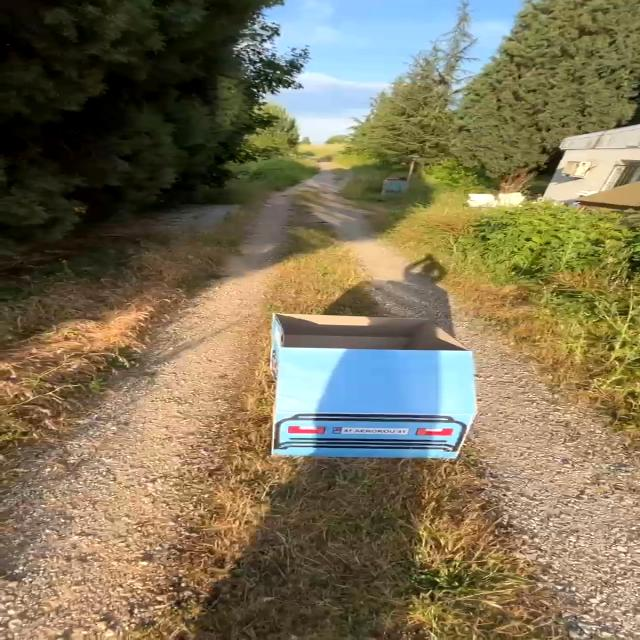blue_car: (238, 282, 532, 489)
